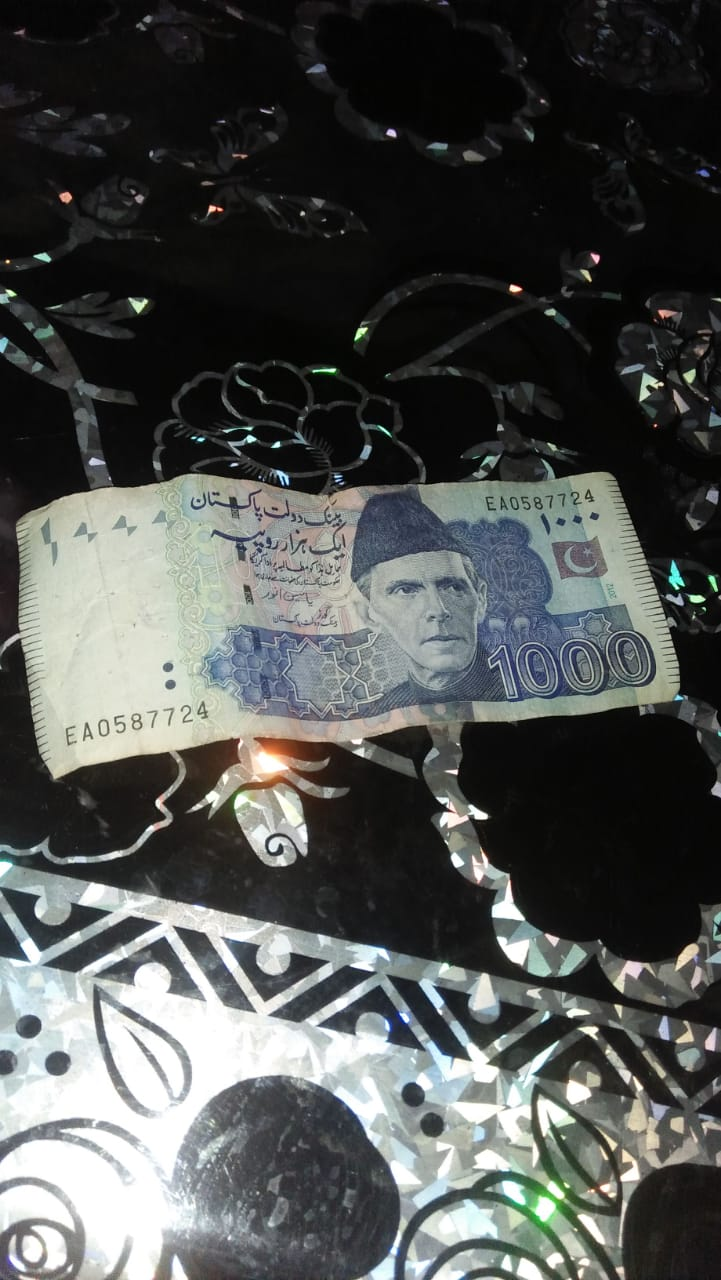1000 rupee: (15, 452, 695, 795)
